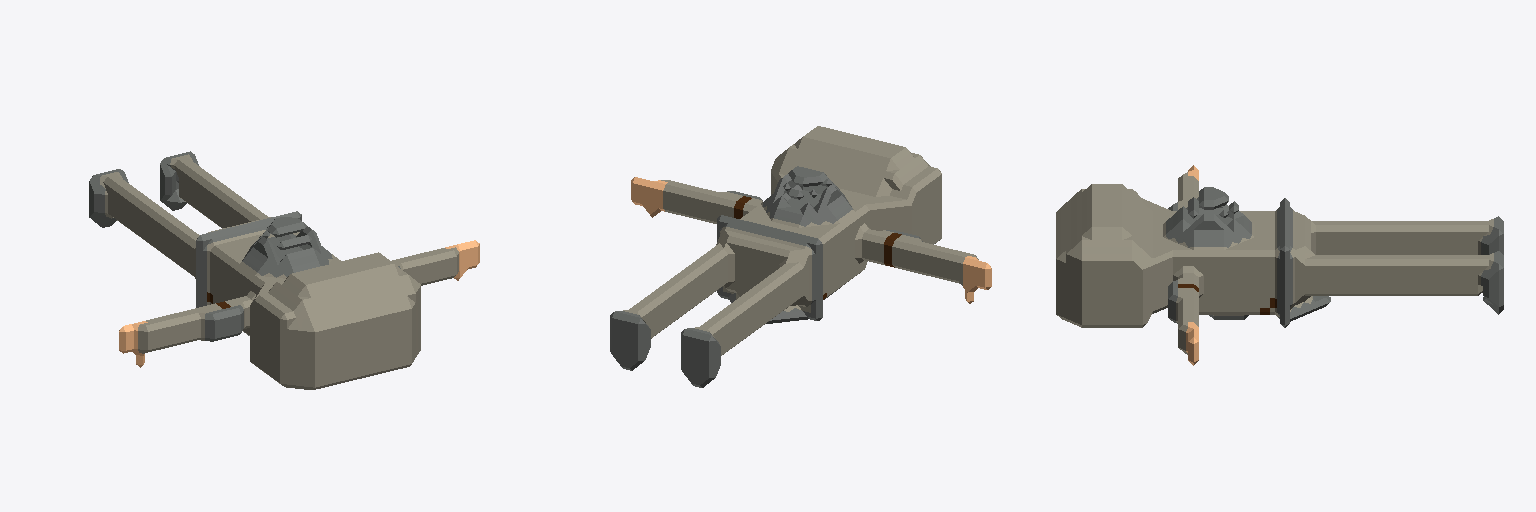
The model's file is knightNoSwordMII-00.mc.obj.
The picture shows the model from 3 angles: view 1: azimuth 30°, elevation 25°; view 2: azimuth 150°, elevation 25°; view 3: azimuth 270°, elevation 25°; orthographic projection.
Parts seen in each view (by area): view 1: Object.1, Object.5; view 2: Object.1, Object.5; view 3: Object.1, Object.5.
Part boxes in pixels (bbox=[...]): Object.1: bbox=[89, 151, 479, 389]; Object.5: bbox=[267, 217, 306, 237]; Object.1: bbox=[610, 126, 991, 387]; Object.5: bbox=[788, 166, 827, 186]; Object.1: bbox=[1056, 165, 1503, 365]; Object.5: bbox=[1199, 187, 1228, 209].
Bounding box in the file's own units: 41 × 13 × 44.